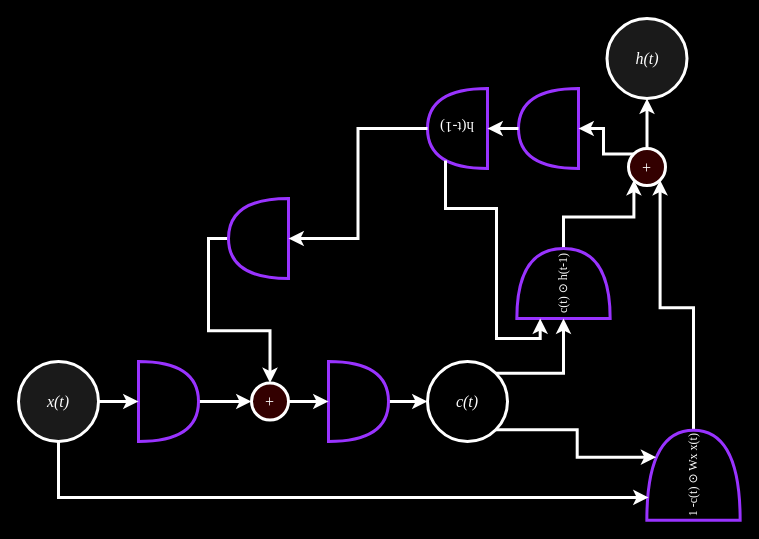
Image size: 759x539. Some labels were removed from this diagram. The centre of each missing label's shape, as x and y in pixels:
"delay" belongs at pixel 548 128.
"sigmoid" belongs at pixel 358 401.
"Wc" belongs at pixel 168 401.
"Wh" belongs at pixel 258 238.
